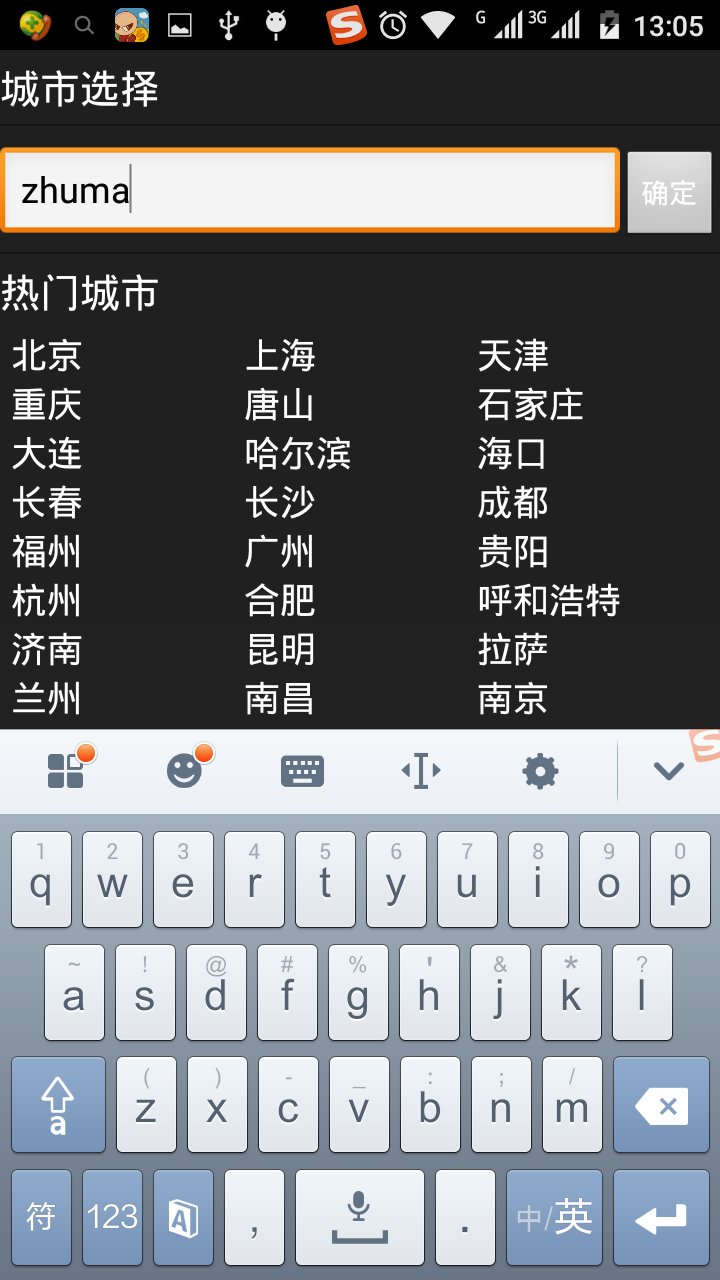button: (618, 144, 715, 244)
textview: (13, 151, 568, 245)
